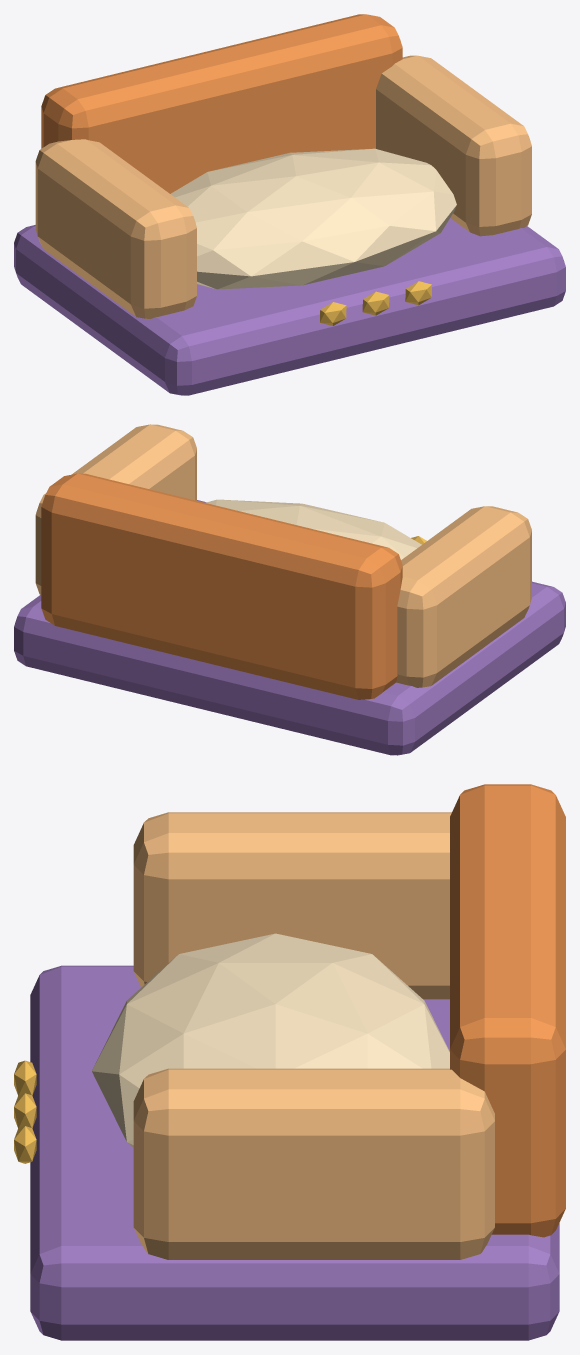
File: CozyPodBed.fbx
3 renders of one model, top to bottom at view 1: azimuth 30°, elevation 25°; view 2: azimuth 150°, elevation 25°; view 3: azimuth 270°, elevation 25°, orthographic. The views are drawn at different scales.
Visible parts, largest first — view 1: Bed_Base, Bed_BackBolster, Bed_Cushion, Bed_LeftBolster, Bed_RightBolster, Bed_Paw_0, Bed_Paw_0.12, Bed_Paw_-0.12; view 2: Bed_BackBolster, Bed_Base, Bed_LeftBolster, Bed_RightBolster, Bed_Cushion; view 3: Bed_Base, Bed_RightBolster, Bed_LeftBolster, Bed_BackBolster, Bed_Cushion, Bed_Paw_0.12.
Part boxes in pixels (bbox=[...]): Bed_Base: bbox=[14, 218, 565, 395]; Bed_BackBolster: bbox=[41, 14, 402, 193]; Bed_Cushion: bbox=[170, 148, 456, 289]; Bed_LeftBolster: bbox=[35, 139, 196, 318]; Bed_RightBolster: bbox=[376, 55, 531, 236]; Bed_Paw_0: bbox=[362, 291, 389, 315]; Bed_Paw_0.12: bbox=[405, 281, 431, 305]; Bed_Paw_-0.12: bbox=[320, 302, 346, 325]; Bed_BackBolster: bbox=[41, 473, 402, 699]; Bed_Base: bbox=[14, 500, 565, 755]; Bed_LeftBolster: bbox=[396, 506, 531, 687]; Bed_RightBolster: bbox=[35, 424, 196, 594]; Bed_Cushion: bbox=[205, 499, 421, 559]; Bed_Base: bbox=[30, 965, 559, 1340]; Bed_RightBolster: bbox=[133, 1068, 494, 1259]; Bed_LeftBolster: bbox=[133, 812, 451, 999]; Bed_BackBolster: bbox=[450, 784, 565, 1237]; Bed_Cushion: bbox=[92, 933, 449, 1147]; Bed_Paw_0.12: bbox=[14, 1126, 36, 1163].
Size of the model in its own units: 1.12 by 0.51 by 0.8555.
